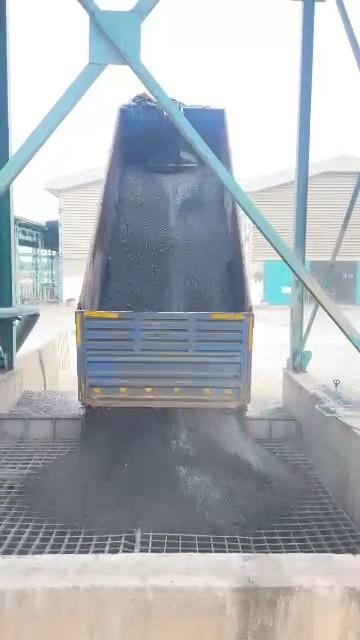gravel: (27, 410, 302, 534), (100, 171, 235, 310), (0, 390, 83, 417)
